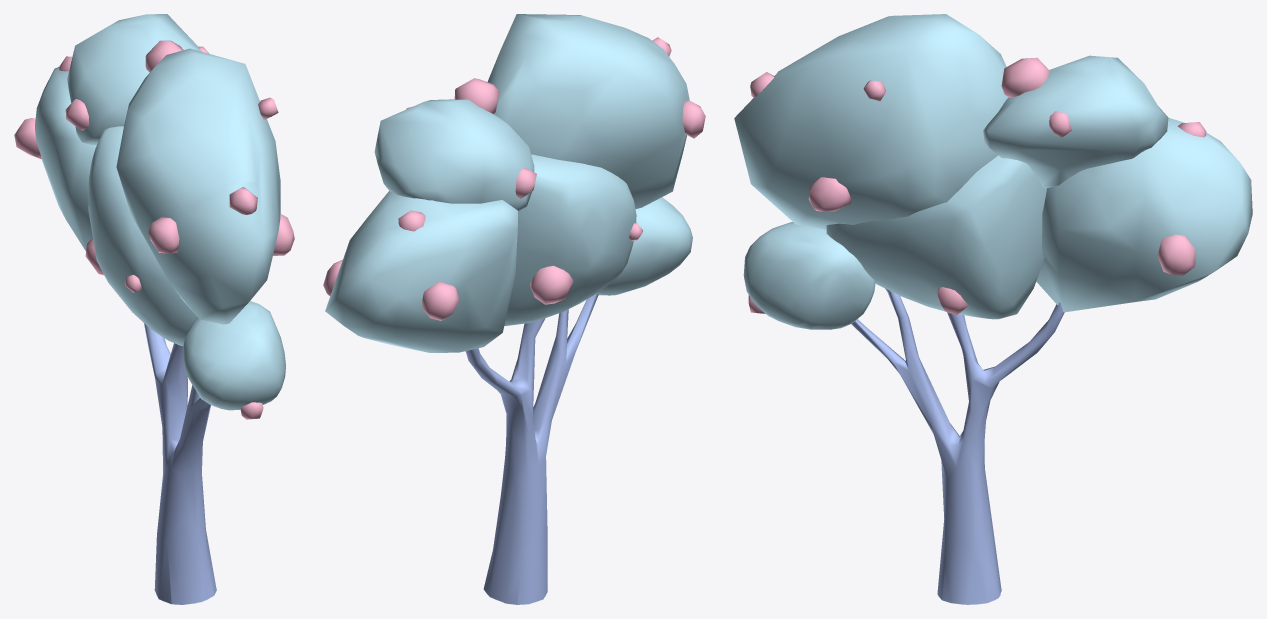
3 renders of one model, left to right at view 1: azimuth 30°, elevation 25°; view 2: azimuth 150°, elevation 25°; view 3: azimuth 270°, elevation 25°, orthographic. The views are drawn at different scales.
Parts seen in each view (by area): view 1: s.0230, s.0226, s.0218; view 2: s.0230, s.0226, s.0218; view 3: s.0230, s.0226, s.0218.
Part boxes in pixels (x1=…): s.0230: x1=35, y1=14, x2=285, y2=410; s.0226: x1=144, y1=323, x2=216, y2=604; s.0218: x1=14, y1=40, x2=294, y2=419; s.0230: x1=325, y1=14, x2=692, y2=352; s.0226: x1=465, y1=293, x2=598, y2=604; s.0218: x1=323, y1=37, x2=705, y2=320; s.0230: x1=734, y1=14, x2=1252, y2=329; s.0226: x1=851, y1=288, x2=1064, y2=604; s.0218: x1=748, y1=57, x2=1206, y2=315.
Bounding box in the file's own units: 20.54 × 55.44 × 45.64.
